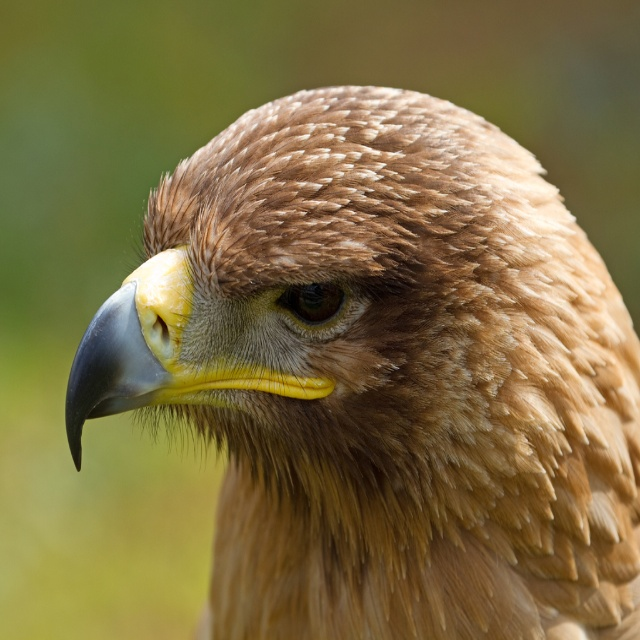Eagle: (64, 83, 640, 639)
